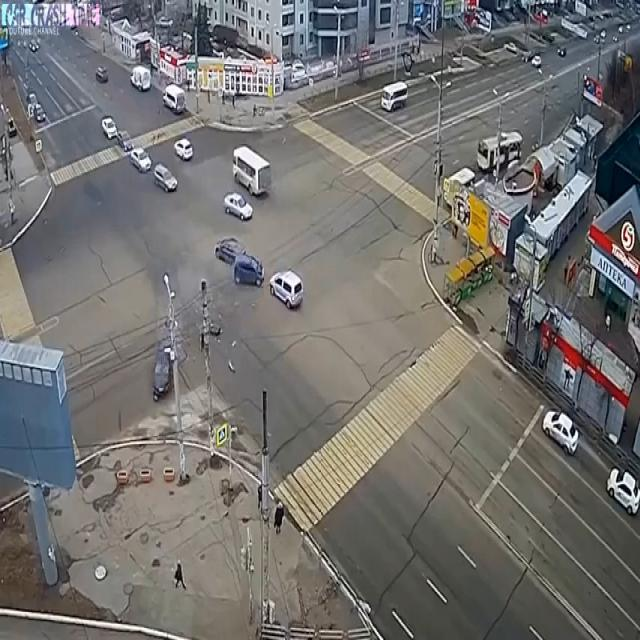Accident: (146, 284, 226, 436), (205, 221, 268, 337)
